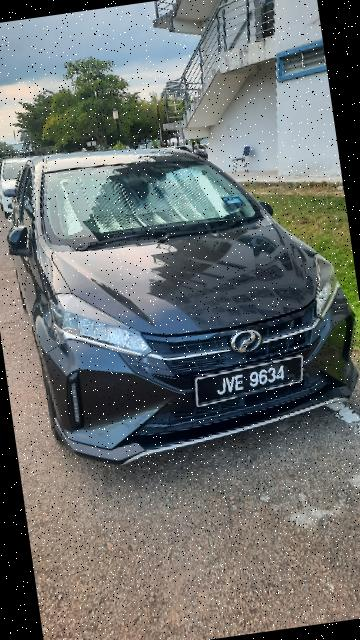License_Plate: (188, 350, 326, 411)
car: (1, 108, 360, 477)
